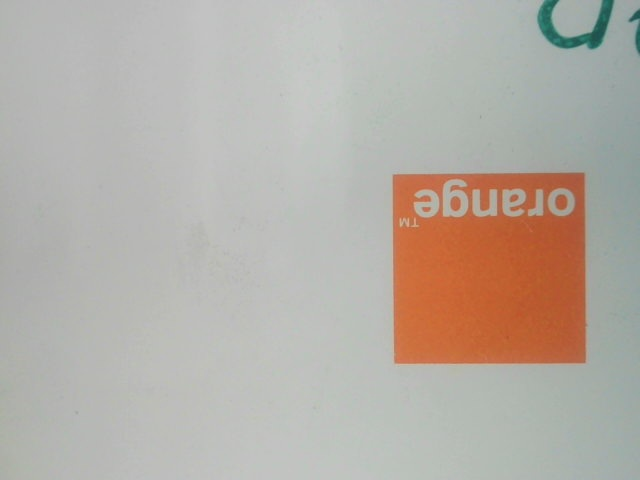AR_Orange: (384, 165, 601, 371)
